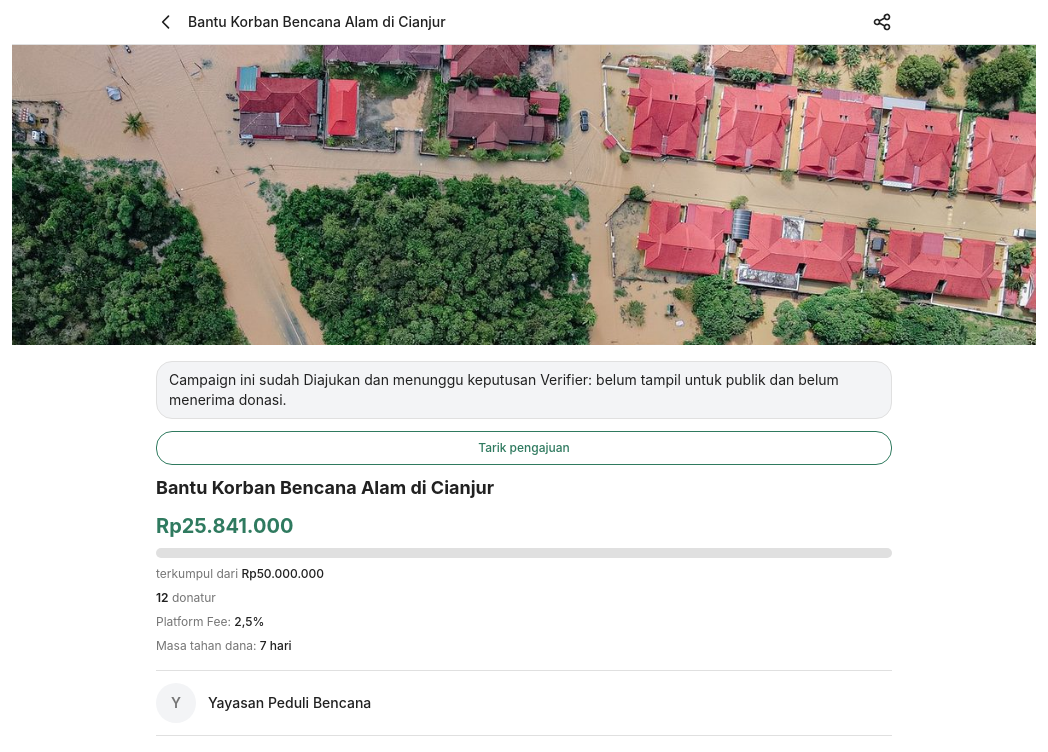
CampaignDetailView -- the Fundraiser withdraws a pending submission (verification-request 10) › withdraws a resubmission and shows the Campaign back at Rejected
Click the button "Tarik pengajuan": (524, 448) [156,431,892,465]
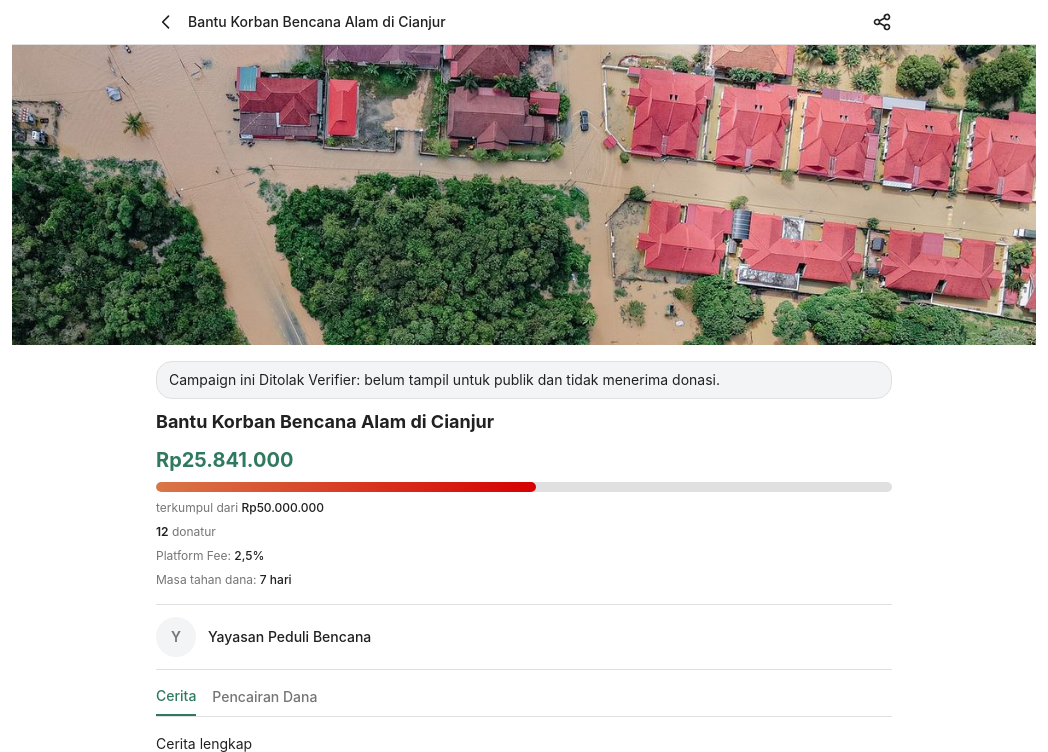
Check: the message named "Status Campaign" shows "Ditolak", box [169,371,720,388]
Check: the button "Tarik pengajuan" is gone
